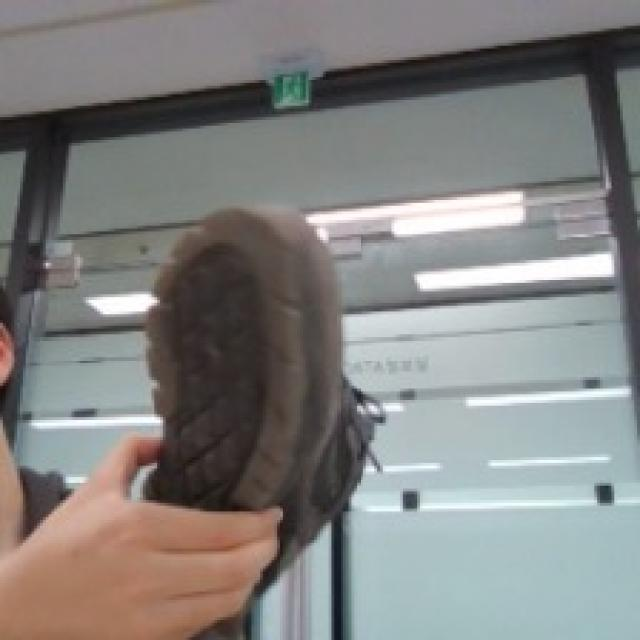shoes: (95, 173, 428, 639)
